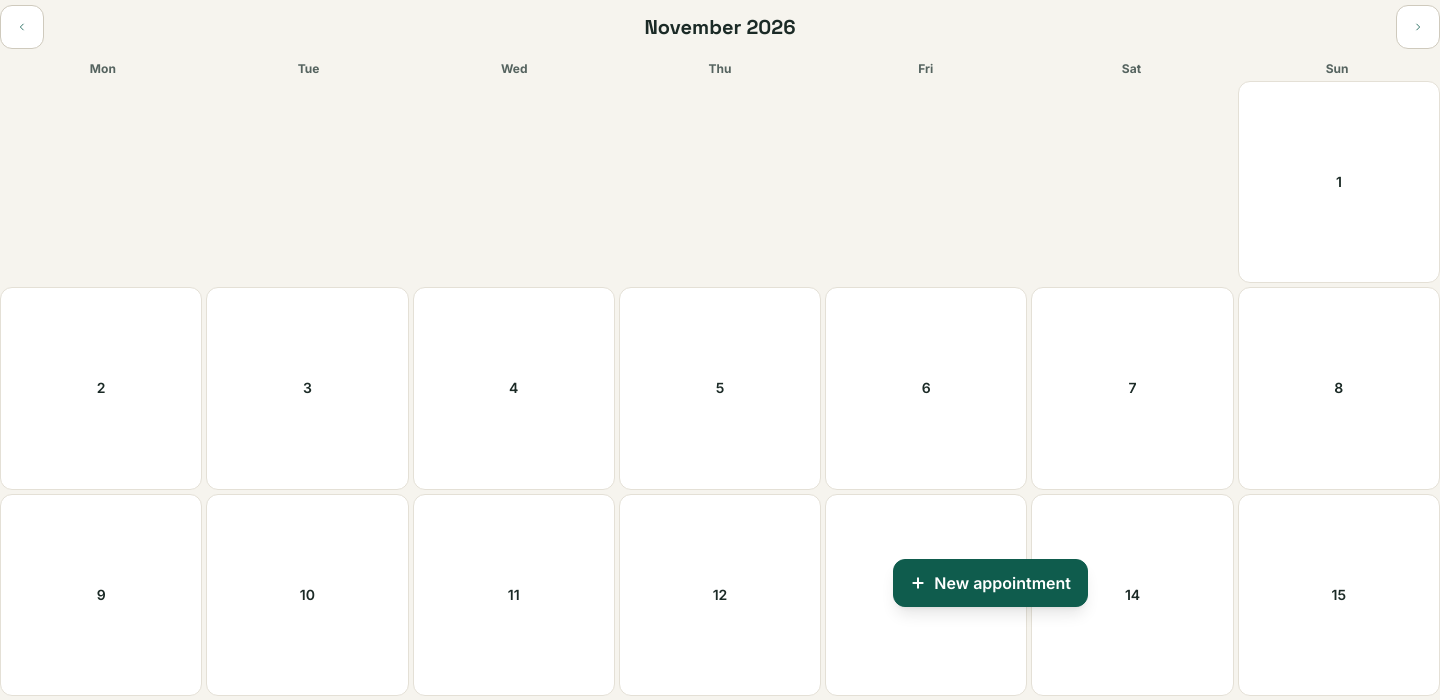
Scenario: calendar › moves to the next month and loads it
Click the button named "Next month": (1418, 27) [1396,5,1439,49]
(page scrolled)
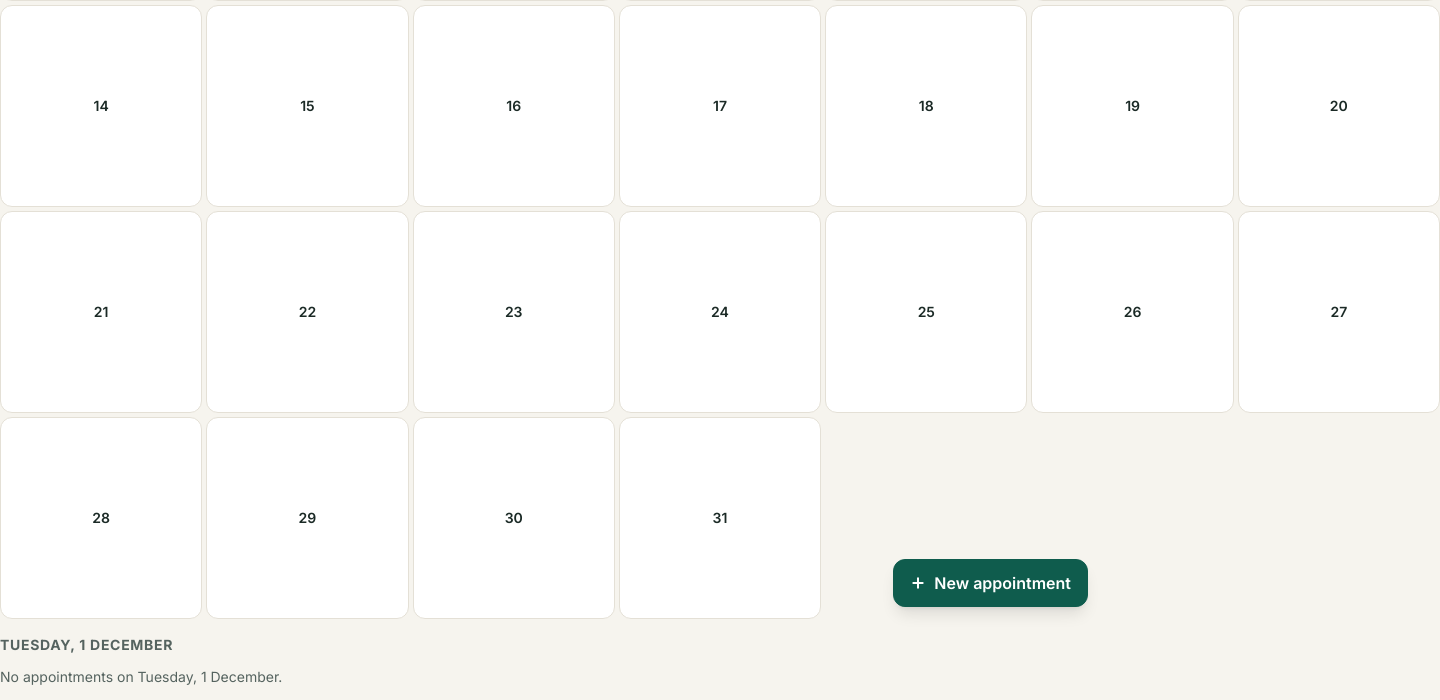
Expected: the text "No appointments on Tuesday, 1 December." is shown, [0,668,282,686]
